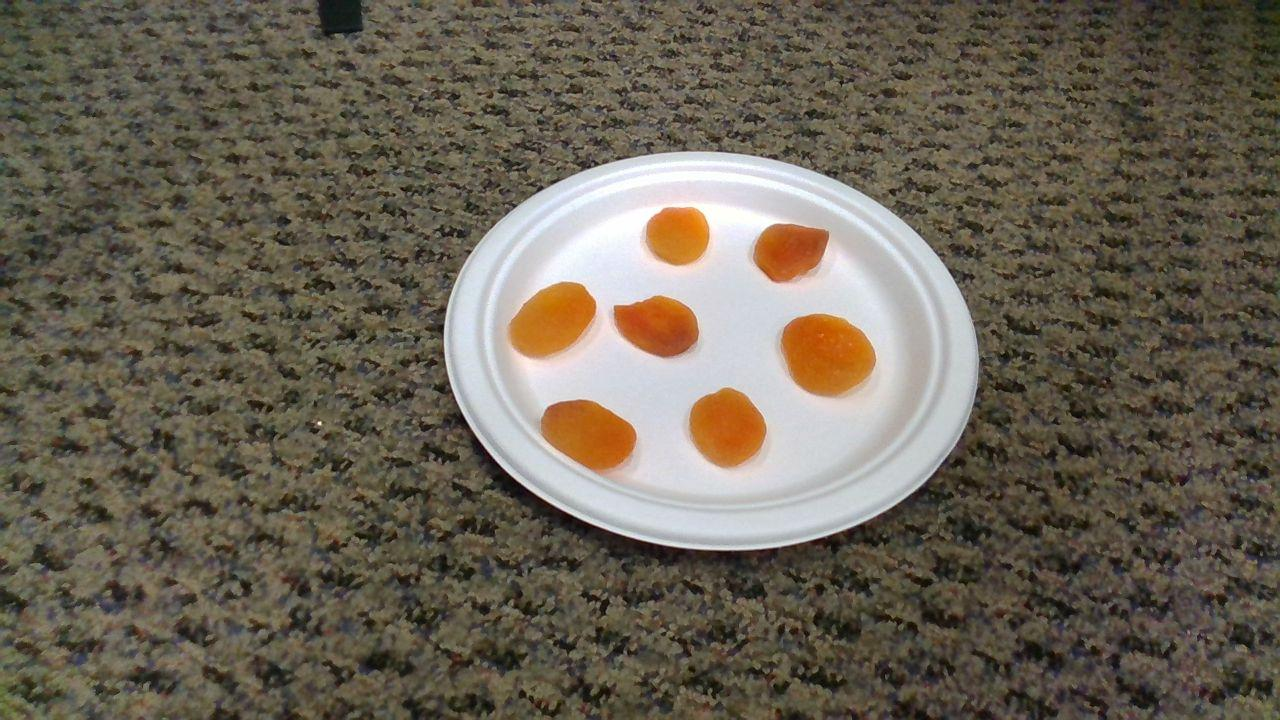apricot: (783, 314, 875, 396), (510, 282, 596, 358), (542, 400, 636, 469), (691, 388, 766, 467), (615, 296, 698, 357), (755, 225, 828, 282), (648, 208, 709, 266)
plate: (443, 152, 979, 549)
